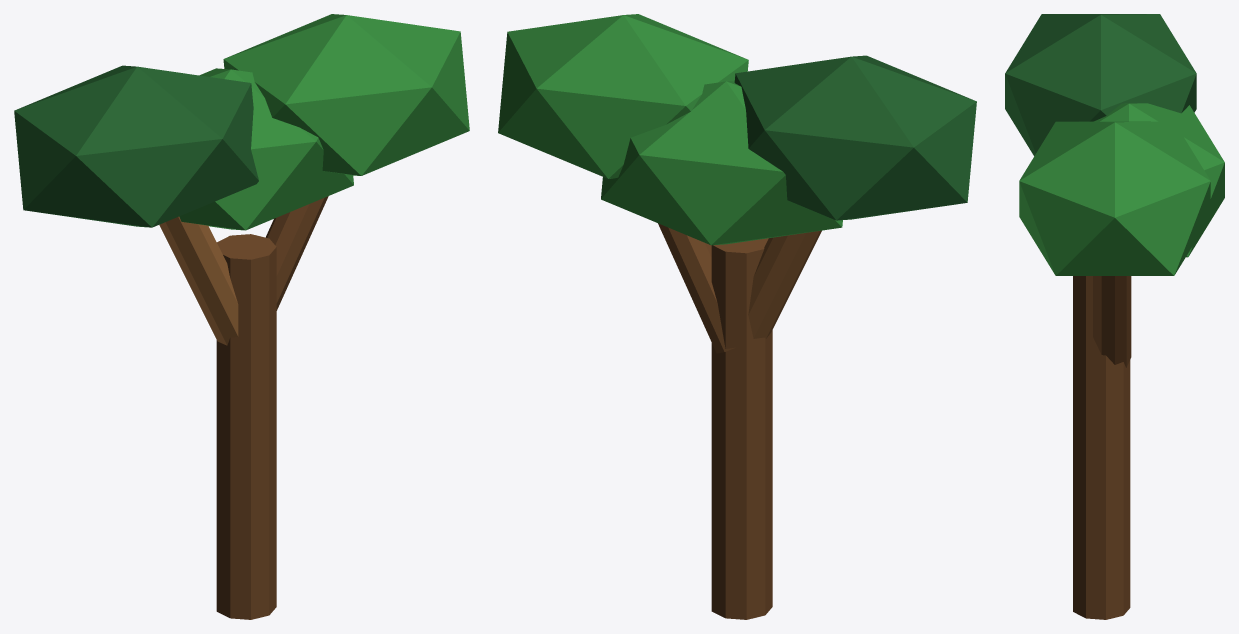
Rendered from SM_ForkedJungleTree_A.glb.
The picture shows the model from 3 angles, left to right: view 1: azimuth 30°, elevation 25°; view 2: azimuth 150°, elevation 25°; view 3: azimuth 270°, elevation 25°; orthographic projection. The views are drawn at different scales.
Parts seen in each view (by area): view 1: SM_ForkedJungleTree_A; view 2: SM_ForkedJungleTree_A; view 3: SM_ForkedJungleTree_A.
Boxes of the visible parts, <box> form: SM_ForkedJungleTree_A: <box>14,14,469,619</box>; SM_ForkedJungleTree_A: <box>498,14,976,619</box>; SM_ForkedJungleTree_A: <box>1005,14,1224,619</box>.
Size of the model in its own units: 6.98 by 8.5 by 3.12.
